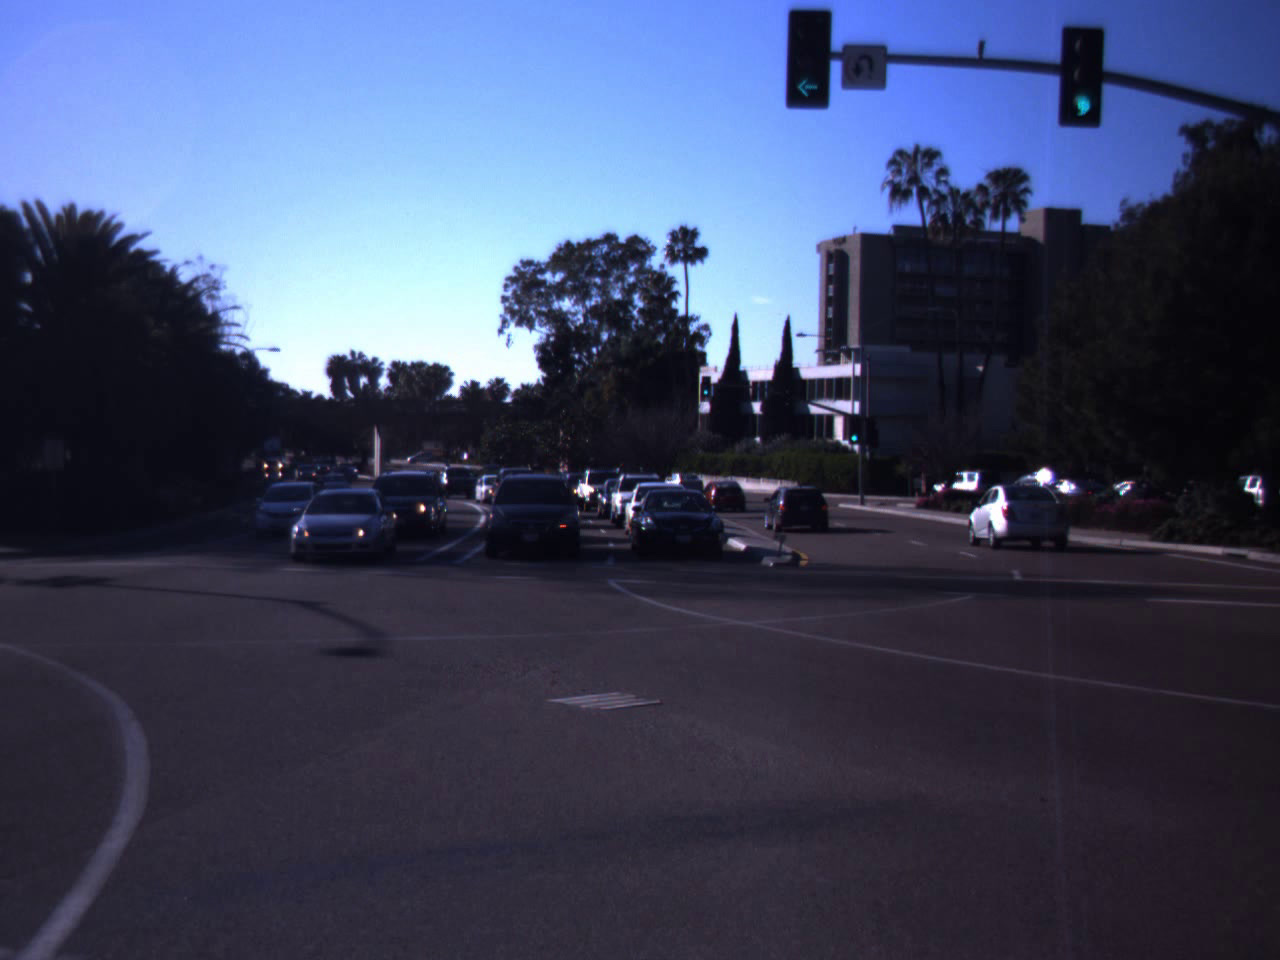go: (771, 0, 840, 109), (1069, 46, 1099, 121)
